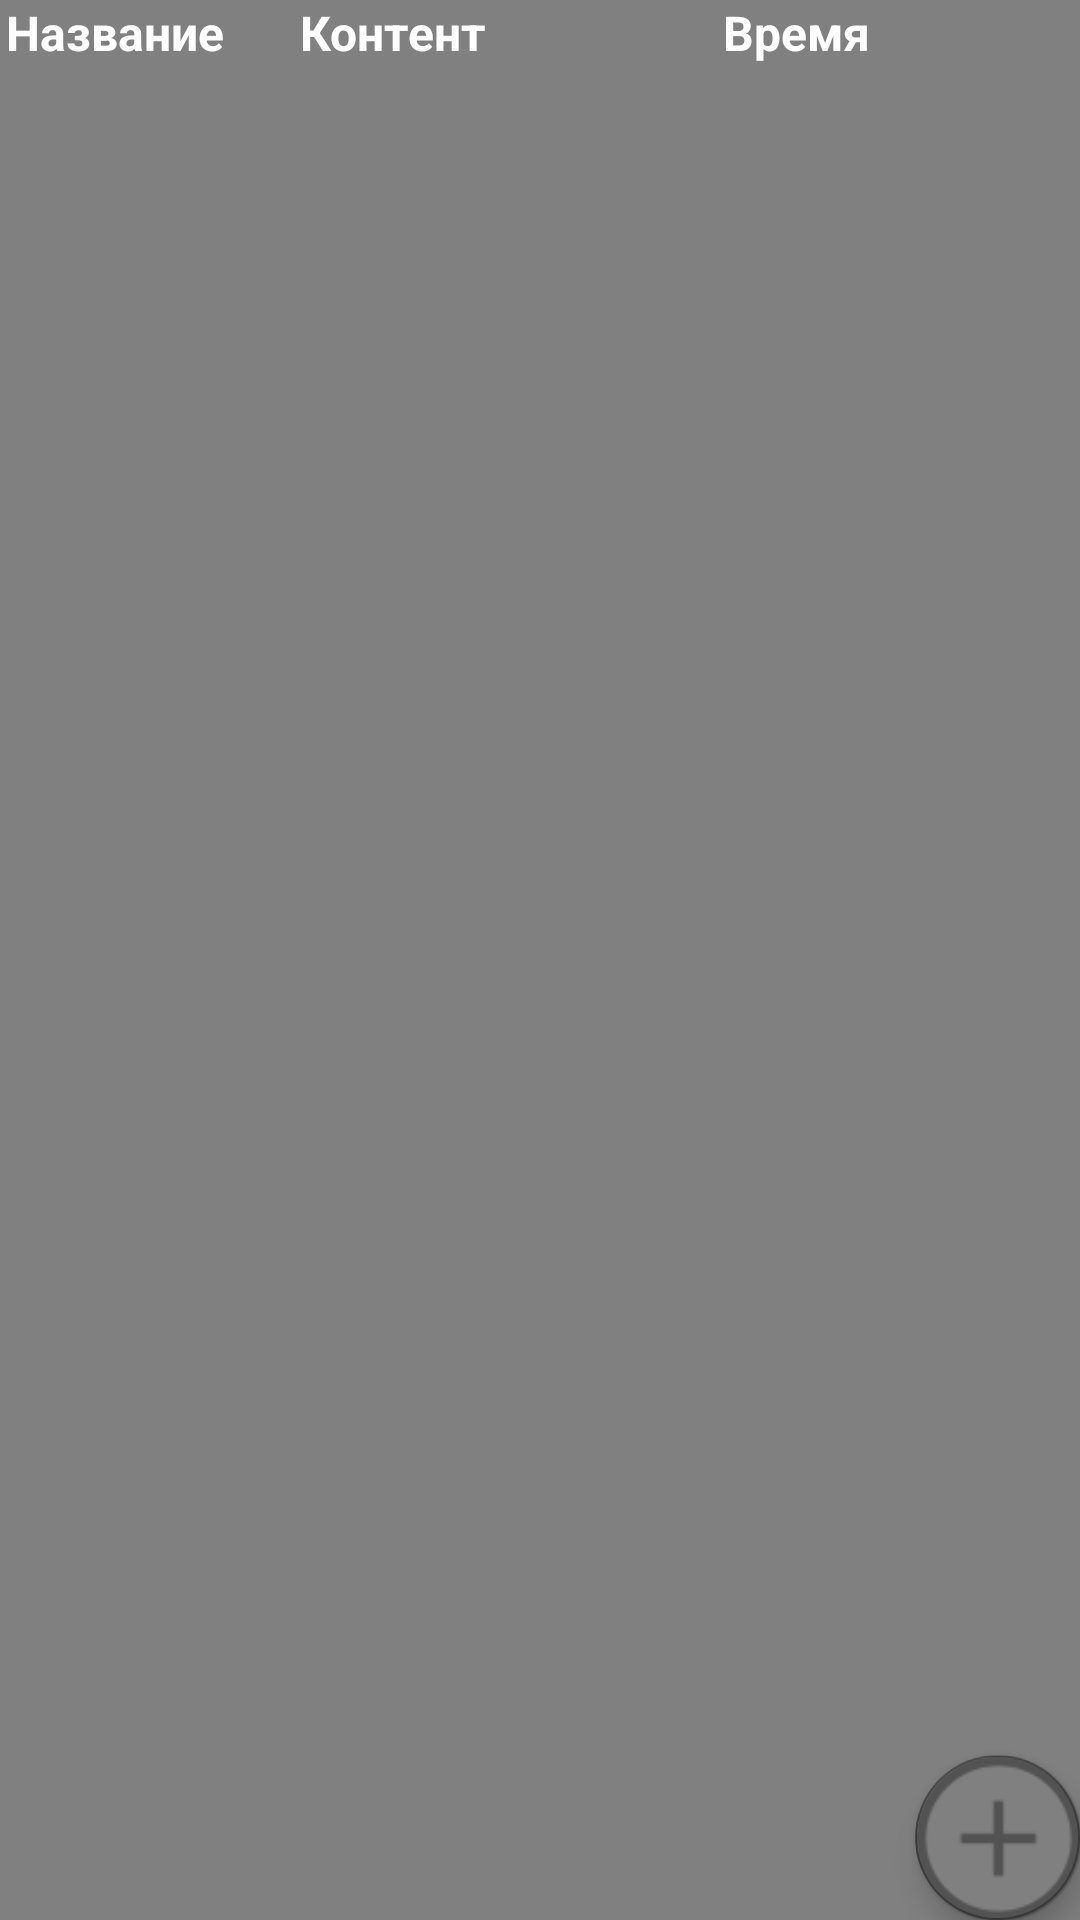

Screen size 1080x1920. Icon name, then its center in pixels as point (x, y):
create: point (997, 1837)
